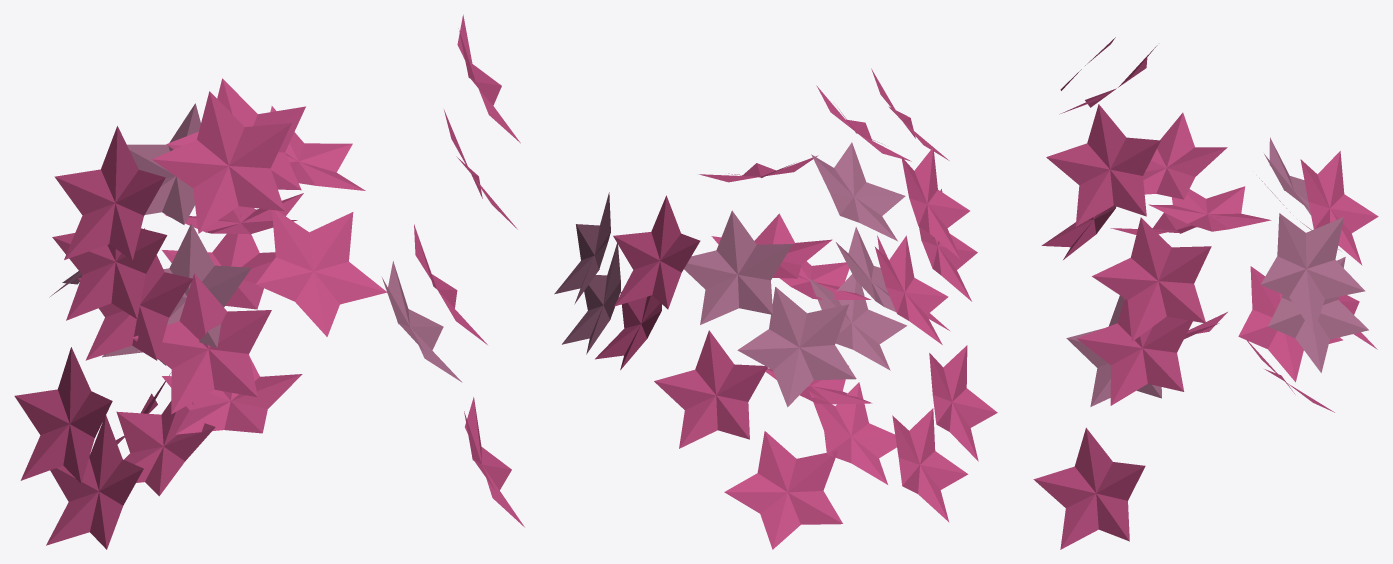
File: bola_bougainvillea.glb
The picture shows the model from 3 angles, left to right: view 1: azimuth 30°, elevation 25°; view 2: azimuth 150°, elevation 25°; view 3: azimuth 270°, elevation 25°; orthographic projection. The views are drawn at different scales.
Visible parts, largest first — view 1: NATIVE_bougainvillea; view 2: NATIVE_bougainvillea; view 3: NATIVE_bougainvillea.
Part boxes in pixels (x1=…): NATIVE_bougainvillea: x1=14, y1=14, x2=524, y2=549; NATIVE_bougainvillea: x1=554, y1=68, x2=997, y2=549; NATIVE_bougainvillea: x1=1033, y1=37, x2=1378, y2=549.
Size of the model in its own units: 0.9953 by 1 by 0.7491.
